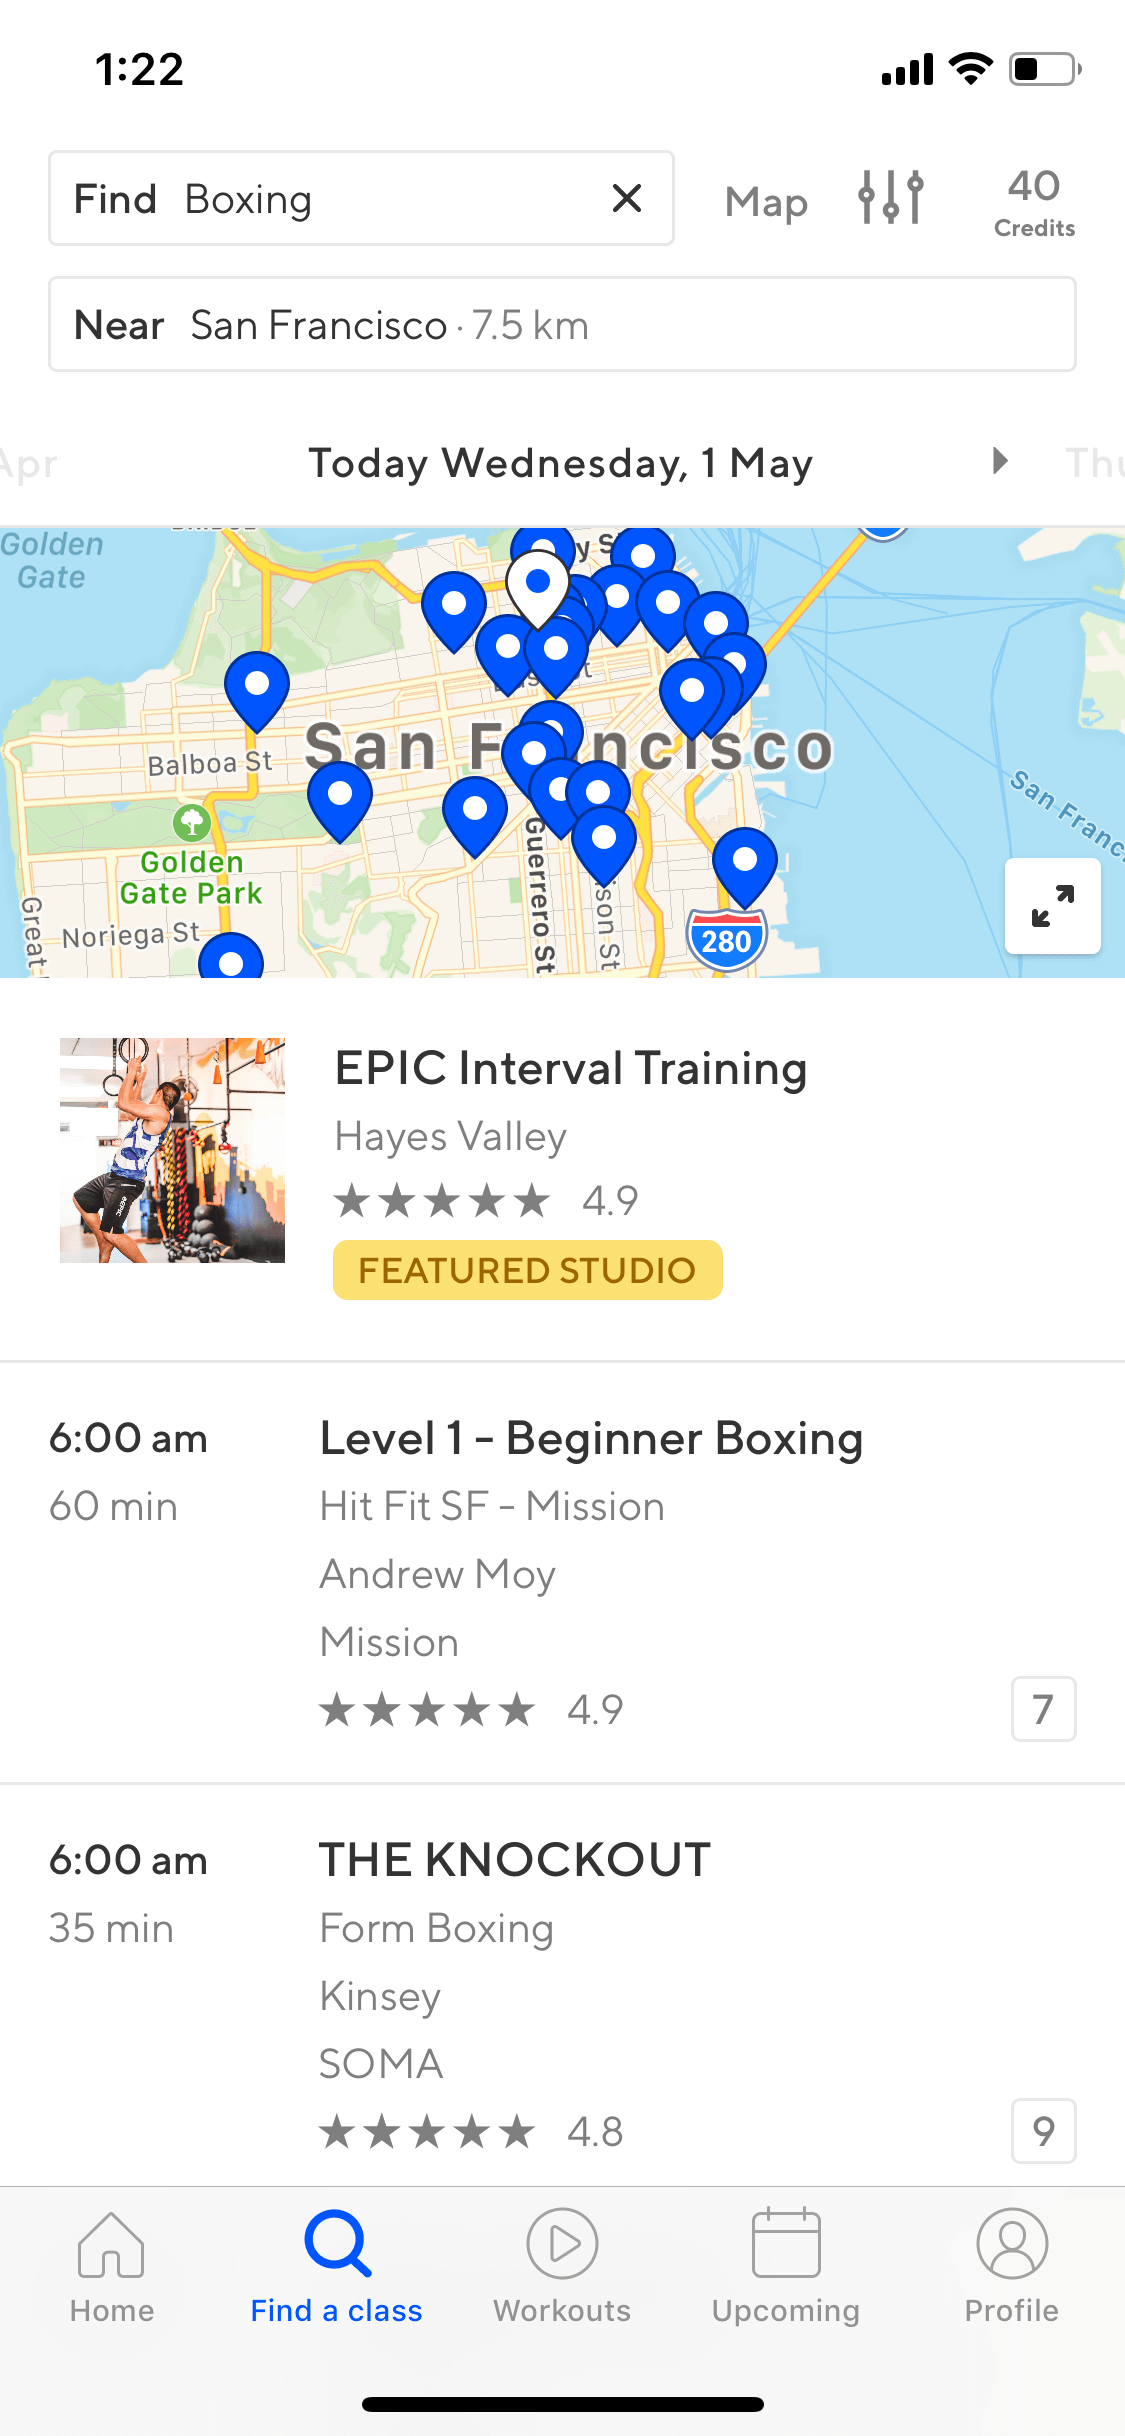Buttons: (830, 135, 953, 253), (974, 138, 1088, 253)
FAB (Floating Action Button): (994, 834, 1114, 960)
Rating: (301, 1675, 656, 1746), (311, 2097, 634, 2166), (322, 1171, 688, 1229)
